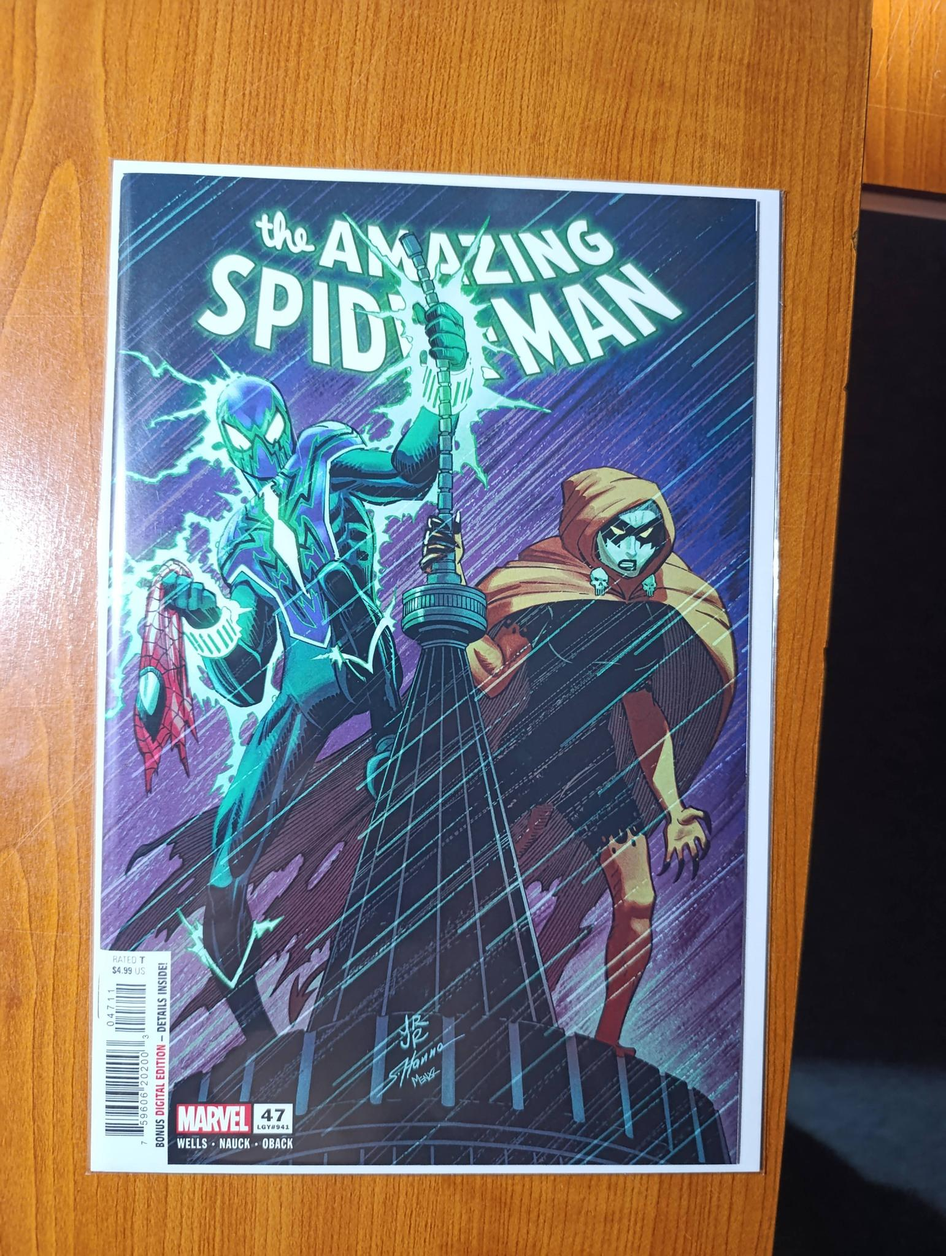comic: (89, 163, 783, 1184)
